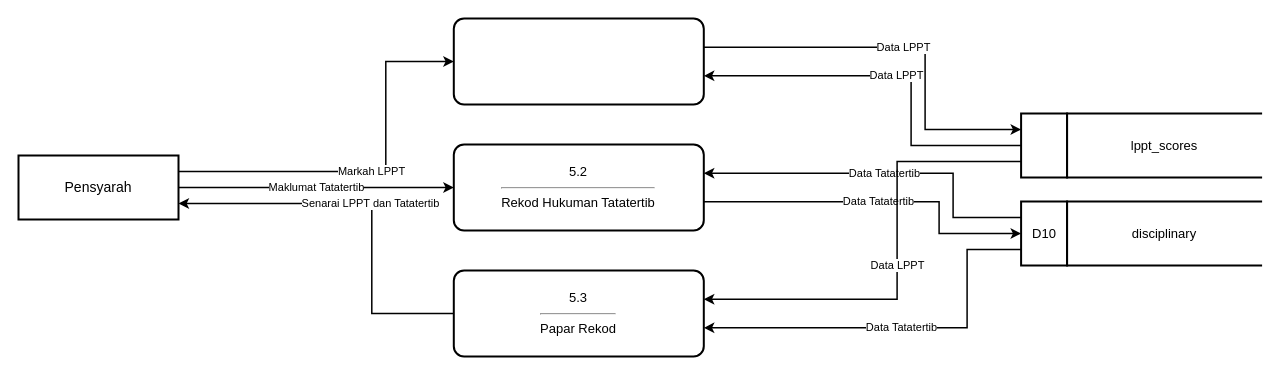
Some shapes in this 1279 by 374 pixel diagram are drawn without their labels. The shapes that lost their labels are listed below. From the top down, each one's box as (x1, y1, x2, y2) in pixels, then its label:
(452, 17, 704, 105): 5.1 Rekod Markah LPPT
(1020, 112, 1068, 178): D9
